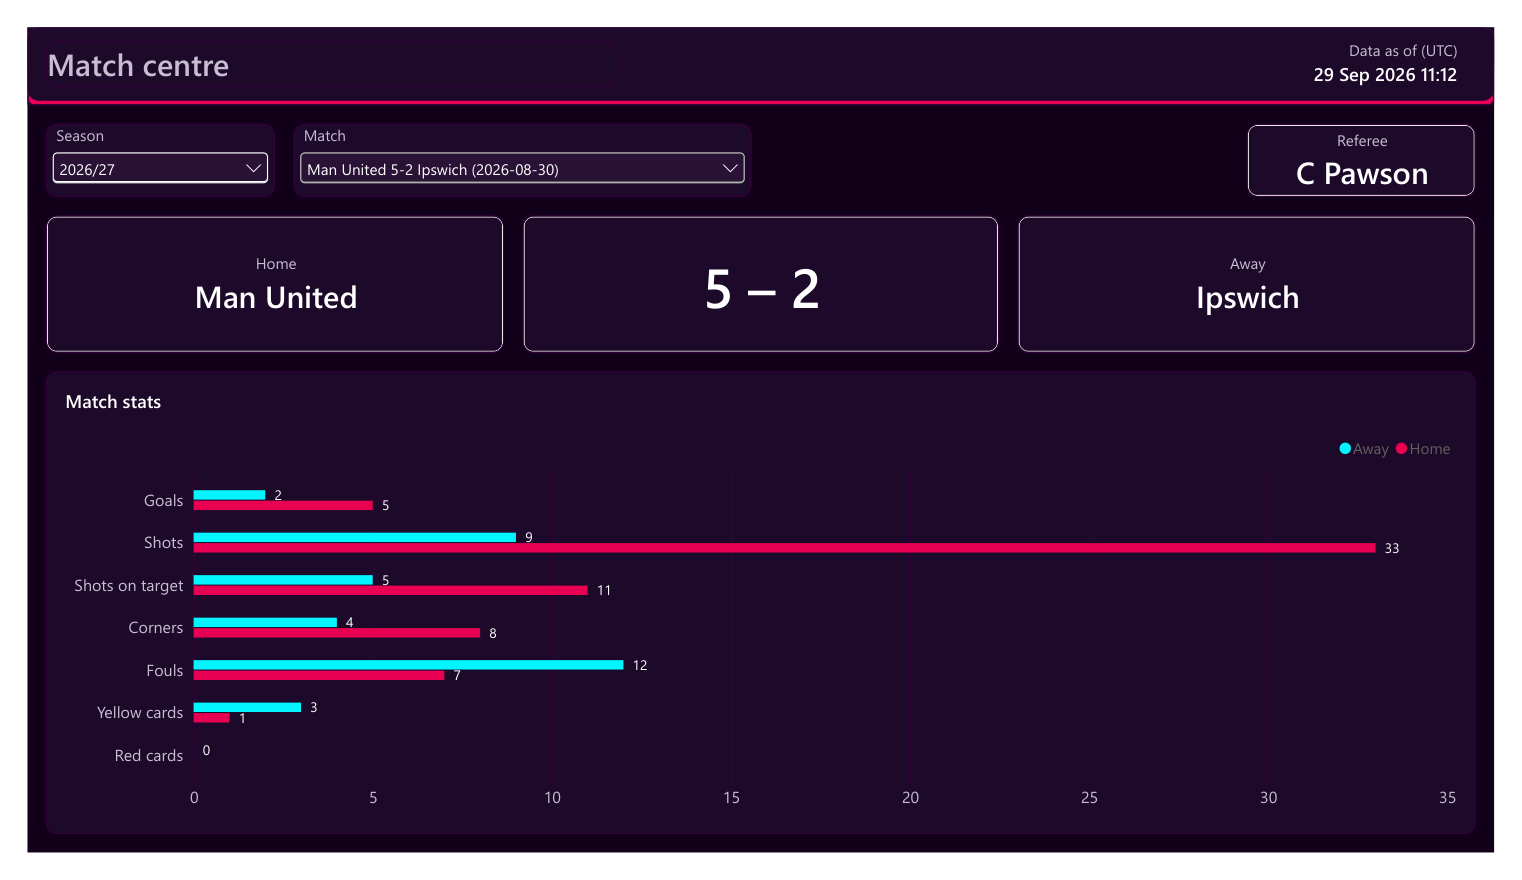

The dashboard page shown, as its layout file describes it:
{"tool":"powerbi","page":{"name":"Match Centre","canvas":[1280,720],"ordinal":2},"visuals":[{"type":"group","id":"g1","title":"Top bar","box":[0,0,1280,68],"z":0},{"type":"shape","title":"Accent line","box":[0,56,1280,12],"z":0,"group":"g1"},{"type":"shape","title":"Bar","box":[0,0,1280,64],"z":1000,"group":"g1"},{"type":"slicer","fields":{"Values":["fact_match.season"]},"box":[16,84,200,64],"z":1000},{"type":"textbox","title":"Page title","box":[16,12,500,40],"z":2000,"group":"g1"},{"type":"slicer","fields":{"Values":["fact_match.match_label"]},"box":[232,84,400,64],"z":2000},{"type":"cardVisual","title":"Last refreshed","fields":{"Data":["_Measures.Last Refreshed"]},"box":[1004,4,260,56],"z":3000,"group":"g1"},{"type":"cardVisual","fields":{"Data":["_Measures.Home Team"]},"box":[16,164,400,120],"z":3000},{"type":"cardVisual","fields":{"Data":["_Measures.Score"]},"box":[432,164,416,120],"z":4000},{"type":"cardVisual","fields":{"Data":["_Measures.Away Team"]},"box":[864,164,400,120],"z":5000},{"type":"cardVisual","fields":{"Data":["_Measures.Referee"]},"box":[1064,84,200,64],"z":6000},{"type":"clusteredBarChart","title":"Match stats","fields":{"Category":["match_stats_long.stat_label"],"Series":["match_stats_long.venue"],"Y":["Sum(match_stats_long.value)"]},"box":[16,300,1248,404],"z":7000}]}

Visuals, with their boxes in screenshot pixels (x1, y1, x2, y2), scaled from the page's 1280x720 canvas onto the 1522x880 screenshot:
"Top bar" group: bbox(0, 0, 1521, 83)
"Accent line" shape: bbox(0, 68, 1521, 83)
"Bar" shape: bbox(0, 0, 1521, 78)
slicer - fact_match.season: bbox(19, 103, 257, 181)
"Page title" textbox: bbox(19, 15, 614, 64)
slicer - fact_match.match_label: bbox(276, 103, 751, 181)
"Last refreshed" cardVisual: bbox(1194, 5, 1503, 73)
cardVisual - _Measures.Home Team: bbox(19, 200, 495, 347)
cardVisual - _Measures.Score: bbox(514, 200, 1008, 347)
cardVisual - _Measures.Away Team: bbox(1027, 200, 1503, 347)
cardVisual - _Measures.Referee: bbox(1265, 103, 1503, 181)
"Match stats" clusteredBarChart: bbox(19, 367, 1503, 860)
